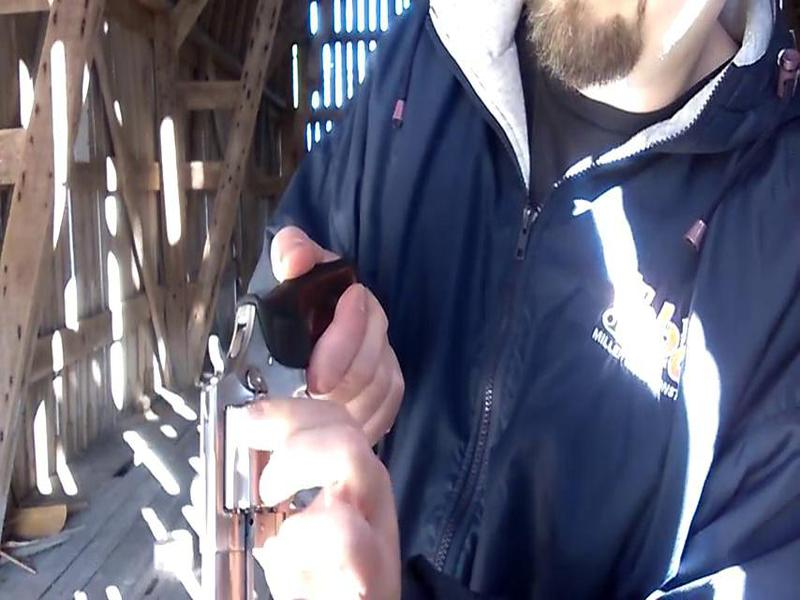Revolver: (154, 229, 399, 600)
